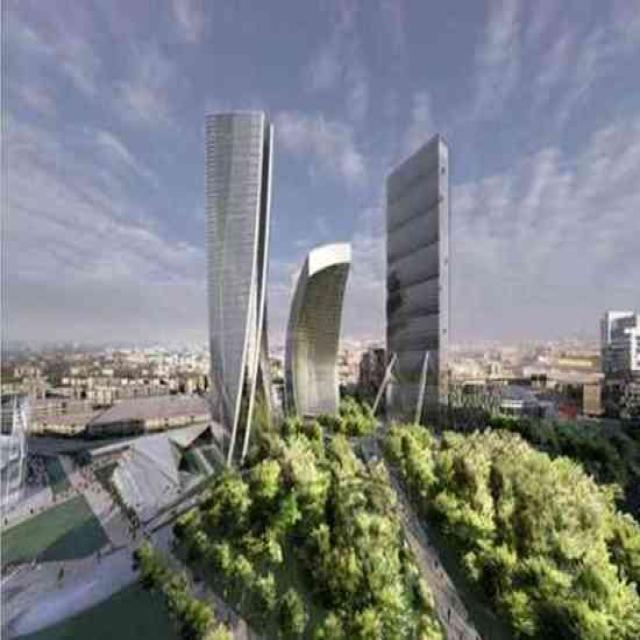building: (201, 108, 282, 471), (383, 132, 455, 435)
